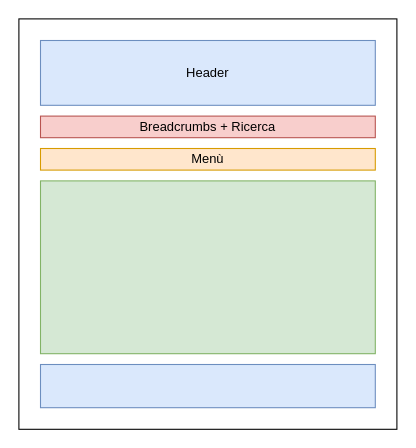
The diagram is 416 pixels wide and 448 high, and some of its shapes have lost their labels. The shapes that lost their labels are listed below. From the top down, each one's centre as x and y in pixels, then its label:
point 207,267: Contenuto
point 207,385: Footer
